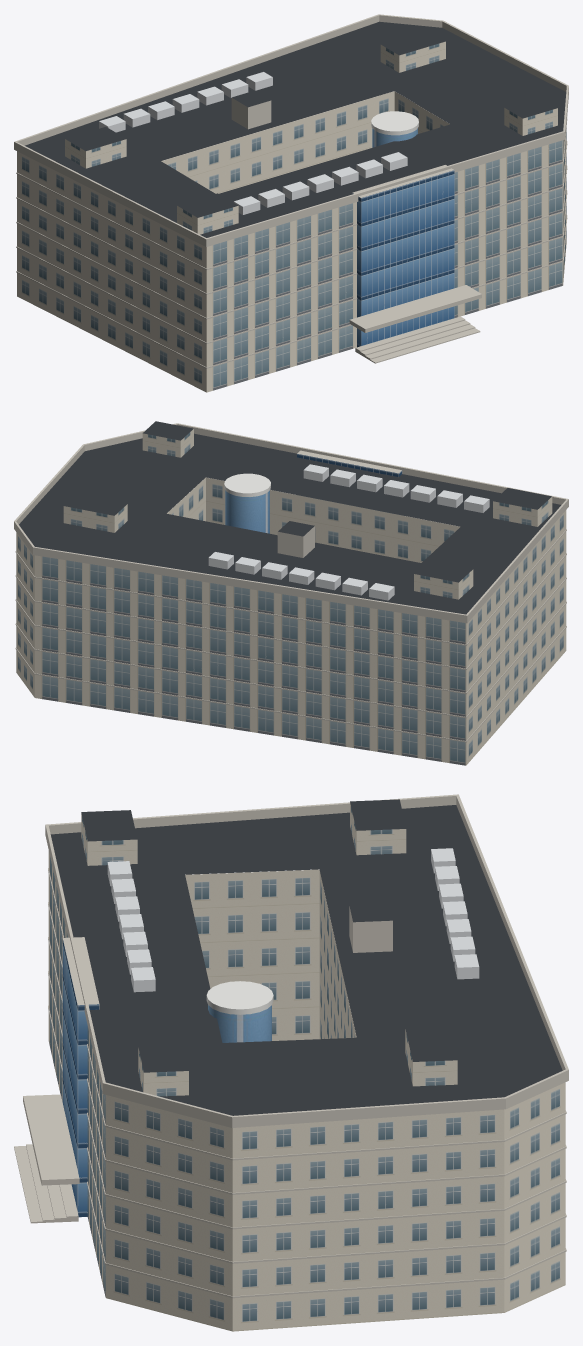
The model's file is xingzhenglou.glb.
The picture shows the model from 3 angles, top to bottom: view 1: azimuth 30°, elevation 25°; view 2: azimuth 150°, elevation 25°; view 3: azimuth 270°, elevation 25°; orthographic projection. The views are drawn at different scales.
Parts seen in each view (by area): view 1: 行政楼; view 2: 行政楼; view 3: 行政楼.
Boxes of the visible parts, box(x1,y1,x2,y2) form: 行政楼: box(14, 14, 568, 392); 行政楼: box(14, 421, 568, 765); 行政楼: box(14, 794, 568, 1331).
Bounding box in the file's own units: 76.39 × 26.2 × 55.5.
Materials: 7 (3 with a texture image).
